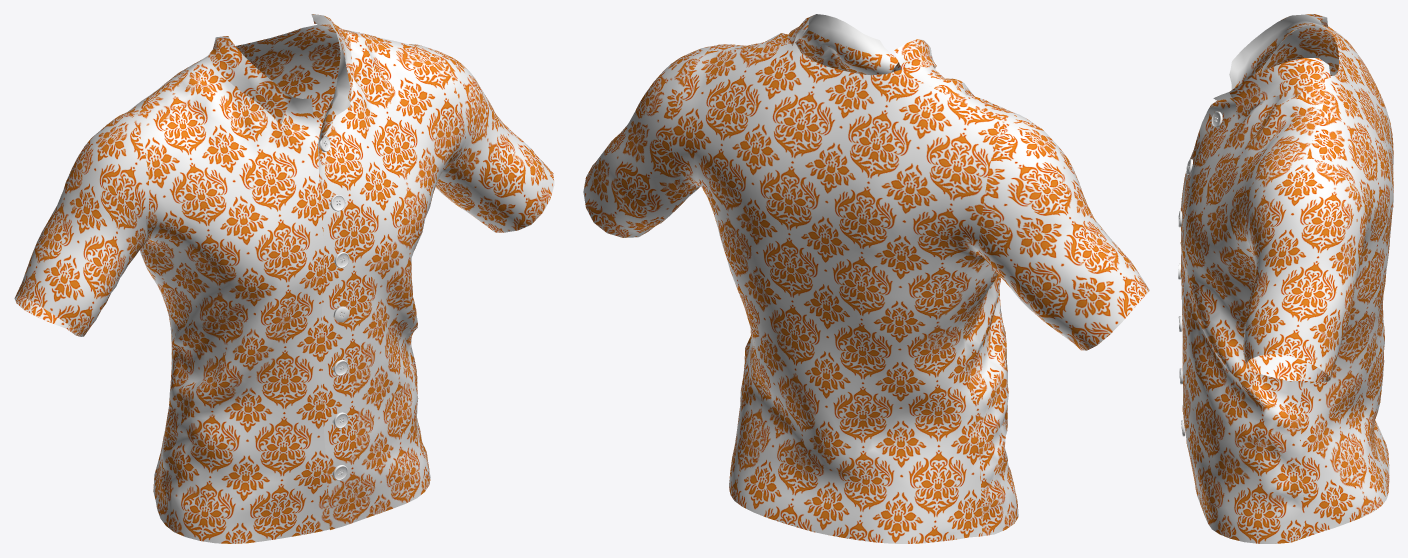
The model's file is Baju_Pendek.fbx.
3 views of the same model, side by side, from view 1: azimuth 30°, elevation 25°; view 2: azimuth 150°, elevation 25°; view 3: azimuth 270°, elevation 25° (orthographic). The views are drawn at different scales.
Parts seen in each view (by area): view 1: Baju_Pendek.003; view 2: Baju_Pendek.003; view 3: Baju_Pendek.003.
Boxes of the visible parts, x1,y1,x2,y2 form: Baju_Pendek.003: (14,14,554,543); Baju_Pendek.003: (583,14,1149,543); Baju_Pendek.003: (1178,14,1393,543).
Bounding box in the file's own units: 735 × 620 × 267.
4 materials, 2 textured.
